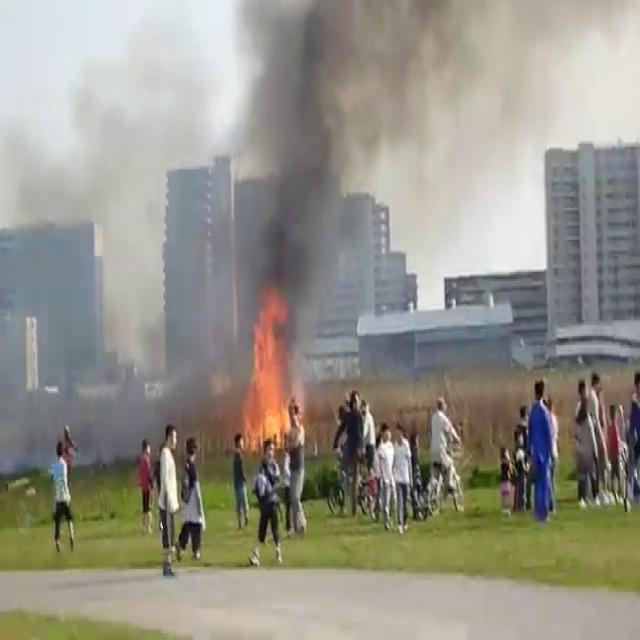Fire: (238, 292, 303, 452)
Smoke: (157, 0, 508, 291)
